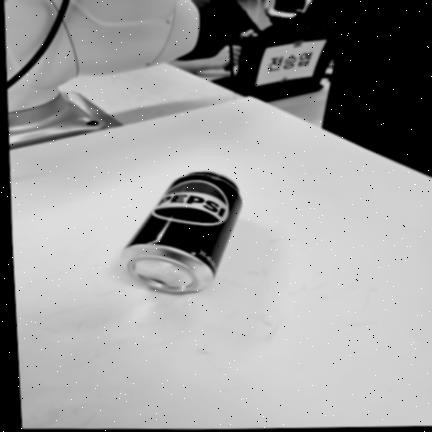can_pepsi: (120, 170, 241, 292)
